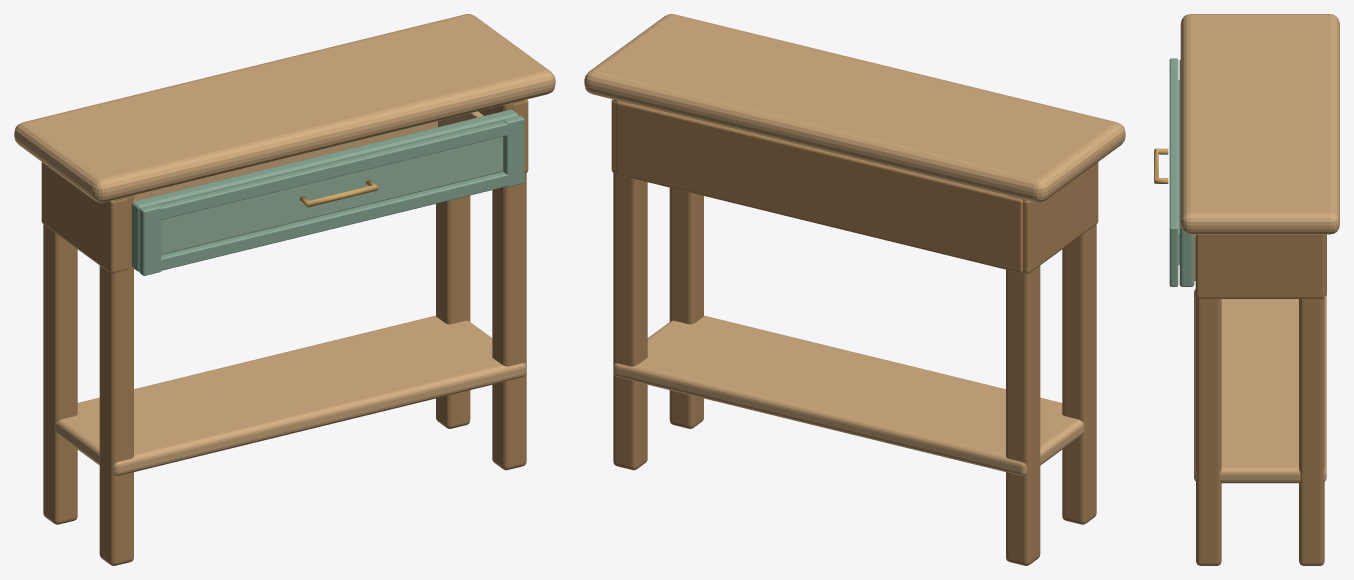
File: Console_Table.glb
The picture shows the model from 3 angles, left to right: view 1: azimuth 30°, elevation 25°; view 2: azimuth 150°, elevation 25°; view 3: azimuth 270°, elevation 25°; orthographic projection. The views are drawn at different scales.
Parts seen in each view (by area): view 1: Console_Table_Mesh, Drawer_Console_Mesh; view 2: Console_Table_Mesh; view 3: Console_Table_Mesh, Drawer_Console_Mesh.
Part boxes in pixels (<box>): Console_Table_Mesh: <box>14,14,555,565</box>; Drawer_Console_Mesh: <box>131,109,524,275</box>; Console_Table_Mesh: <box>584,14,1125,565</box>; Console_Table_Mesh: <box>1180,14,1339,565</box>; Drawer_Console_Mesh: <box>1154,58,1195,286</box>.
Bounding box in the file's own units: 1.05 × 0.858 × 0.4004.
